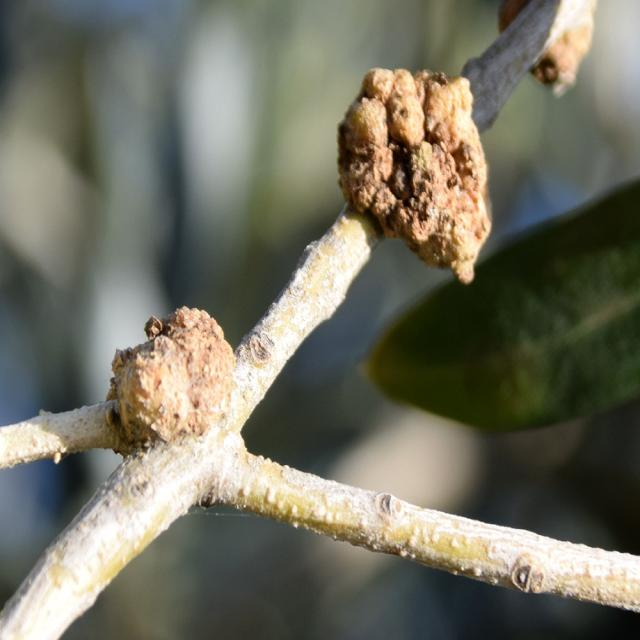Tuberculosis: (339, 68, 491, 282), (106, 306, 235, 451)
